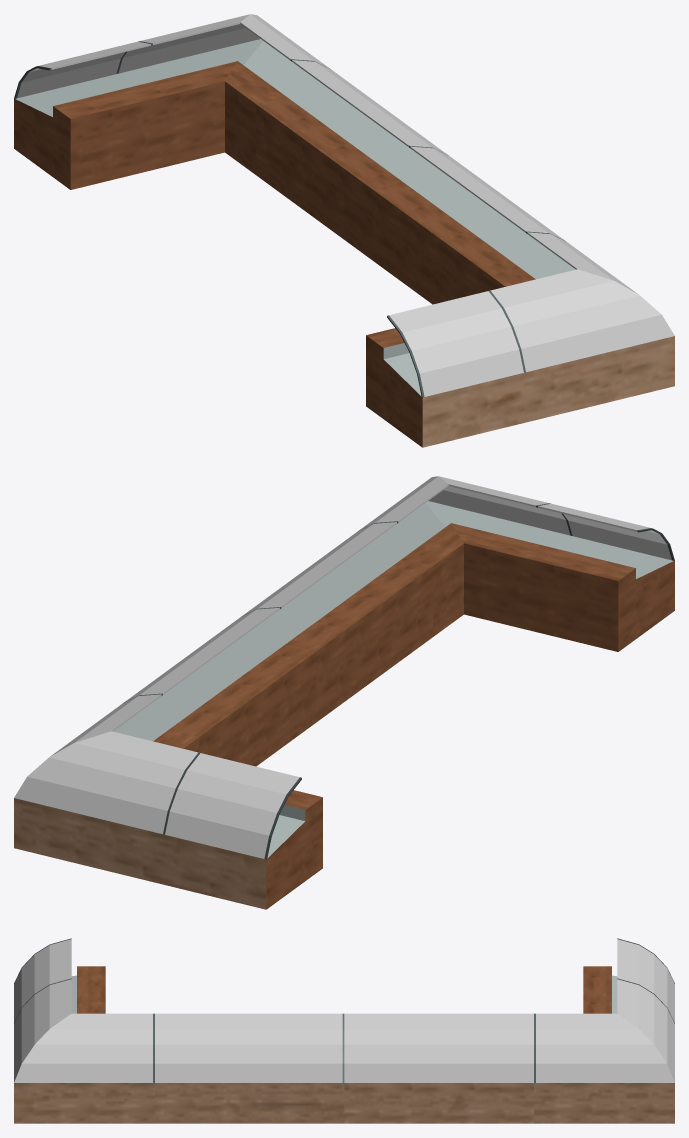
File: counter food.fbx
3 renders of one model, top to bottom at view 1: azimuth 30°, elevation 25°; view 2: azimuth 150°, elevation 25°; view 3: azimuth 270°, elevation 25°, orthographic. The views are drawn at different scales.
Parts seen in each view (by area): view 1: food counter.001; view 2: food counter.001; view 3: food counter.001.
Part boxes in pixels (box(x1,y1,x2,y2)): food counter.001: box(14, 14, 674, 447); food counter.001: box(14, 476, 674, 909); food counter.001: box(14, 938, 674, 1123).
Bounding box in the file's own units: 373 × 150 × 1047.
Materials: 2 (1 with a texture image).
